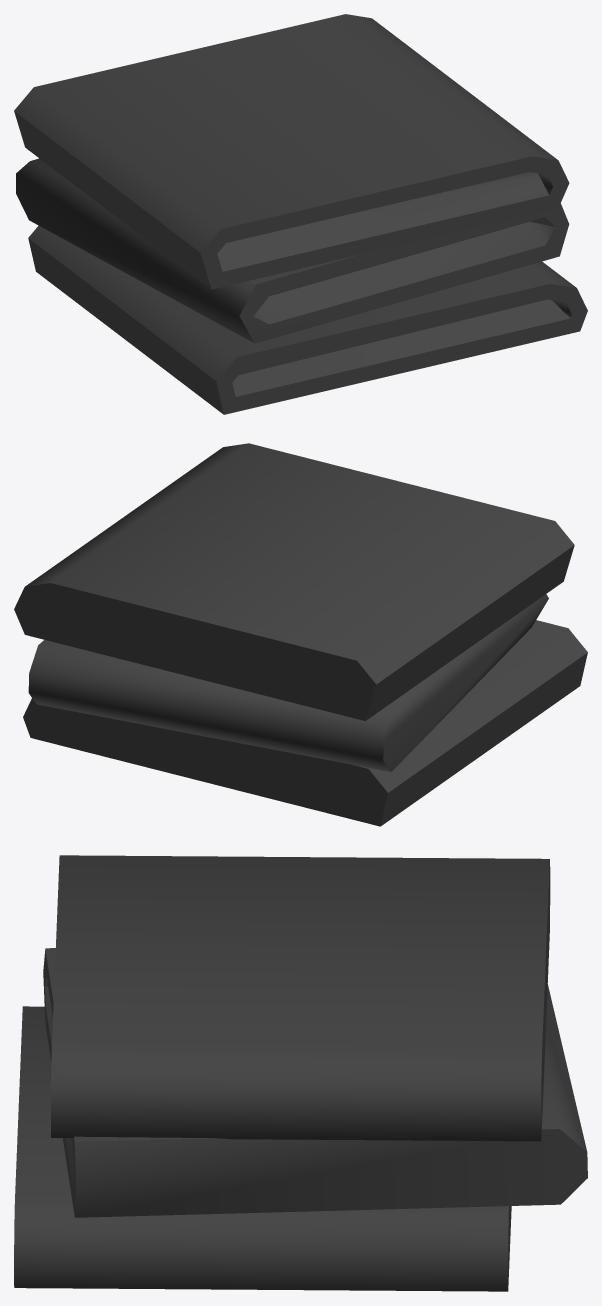
The model's file is clothes_010.fbx.
The picture shows the model from 3 angles, top to bottom: view 1: azimuth 30°, elevation 25°; view 2: azimuth 150°, elevation 25°; view 3: azimuth 270°, elevation 25°; orthographic projection. The views are drawn at different scales.
Visible parts, largest first — view 1: clothes_010; view 2: clothes_010; view 3: clothes_010.
Boxes of the visible parts, left/top/right/bottom form: clothes_010: left=14, top=14, right=587, bottom=414; clothes_010: left=14, top=443, right=587, bottom=826; clothes_010: left=14, top=855, right=587, bottom=1291.
Size of the model in its own units: 39.77 by 41.35 by 17.48.
